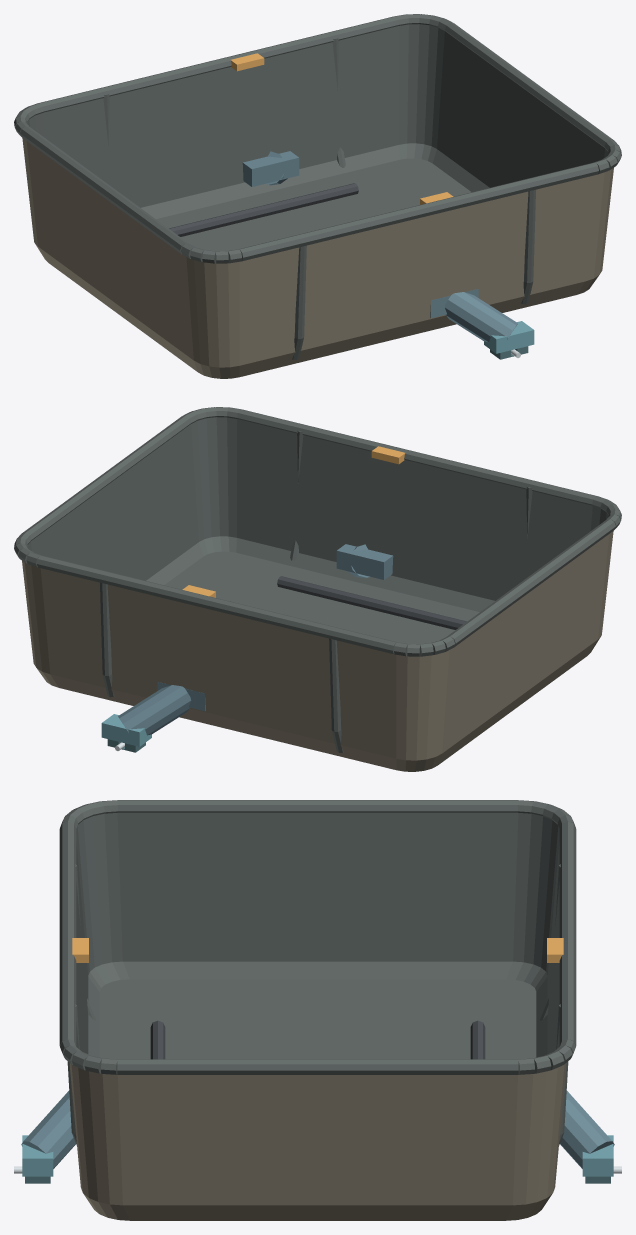
3 renders of one model, top to bottom at view 1: azimuth 30°, elevation 25°; view 2: azimuth 150°, elevation 25°; view 3: azimuth 270°, elevation 25°, orthographic. The views are drawn at different scales.
Visible parts, largest first — view 1: S14_Cabin, S14_Cabin_Mount_M; view 2: S14_Cabin, S14_Cabin_Mount_M; view 3: S14_Cabin, S14_Cabin_Mount_M.
Part boxes in pixels (<box>): S14_Cabin: <box>14,14,621,378</box>; S14_Cabin_Mount_M: <box>242,151,534,359</box>; S14_Cabin: <box>14,407,621,771</box>; S14_Cabin_Mount_M: <box>101,544,393,752</box>; S14_Cabin: <box>59,800,576,1220</box>; S14_Cabin_Mount_M: <box>14,1090,621,1183</box>.
Bounding box in the file's own units: 0.688 × 0.237 × 0.664.
